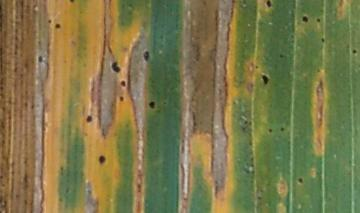tarspot: (110, 59, 122, 73), (259, 72, 270, 87), (141, 49, 152, 64), (97, 152, 106, 166), (147, 100, 157, 112), (262, 1, 274, 10), (84, 114, 94, 123), (301, 15, 310, 24), (117, 94, 125, 103), (297, 176, 304, 185), (266, 126, 273, 134), (315, 16, 322, 24), (119, 80, 126, 88), (37, 56, 44, 64), (54, 22, 61, 29), (320, 36, 326, 44), (46, 17, 52, 25), (278, 53, 285, 59), (280, 126, 285, 133), (352, 49, 357, 55), (69, 1, 75, 4)
